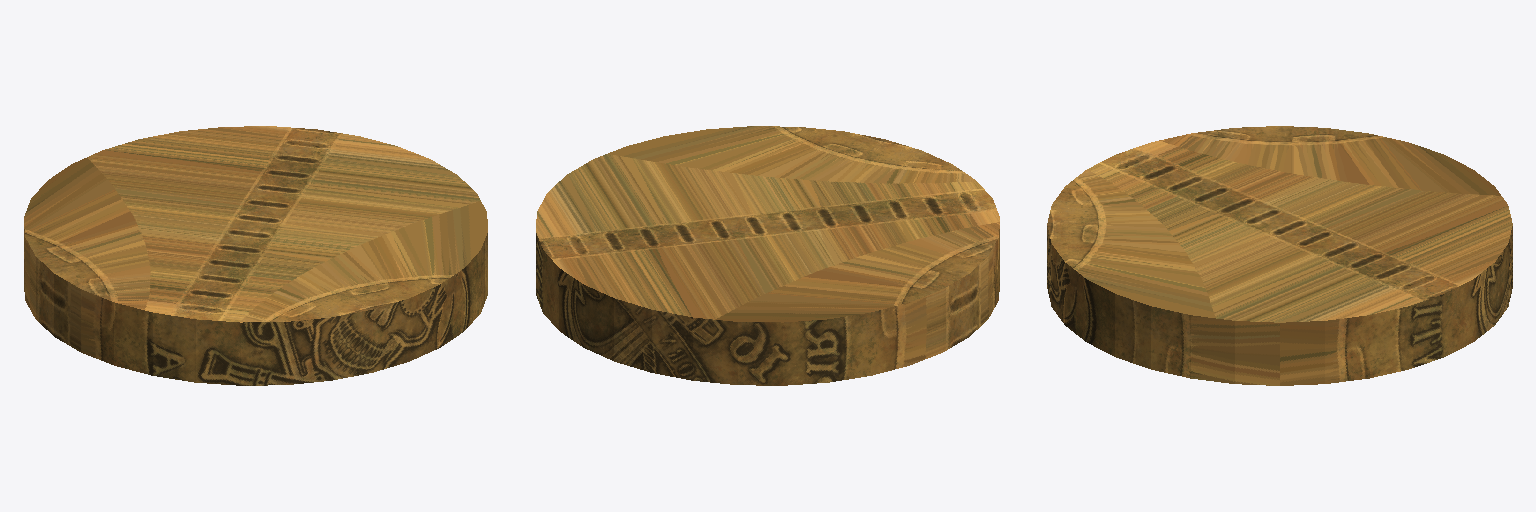
3 renders of one model, left to right at view 1: azimuth 30°, elevation 25°; view 2: azimuth 150°, elevation 25°; view 3: azimuth 270°, elevation 25°, orthographic.
Visible parts, largest first — view 1: Cylinder001; view 2: Cylinder001; view 3: Cylinder001.
Boxes of the visible parts, box(x1,y1,x2,y2) form: Cylinder001: box(24, 126, 487, 385); Cylinder001: box(536, 126, 999, 385); Cylinder001: box(1047, 126, 1512, 385).
Size of the model in its own units: 0.0135 by 0.002 by 0.0135.
Materials: 1 (1 with a texture image).